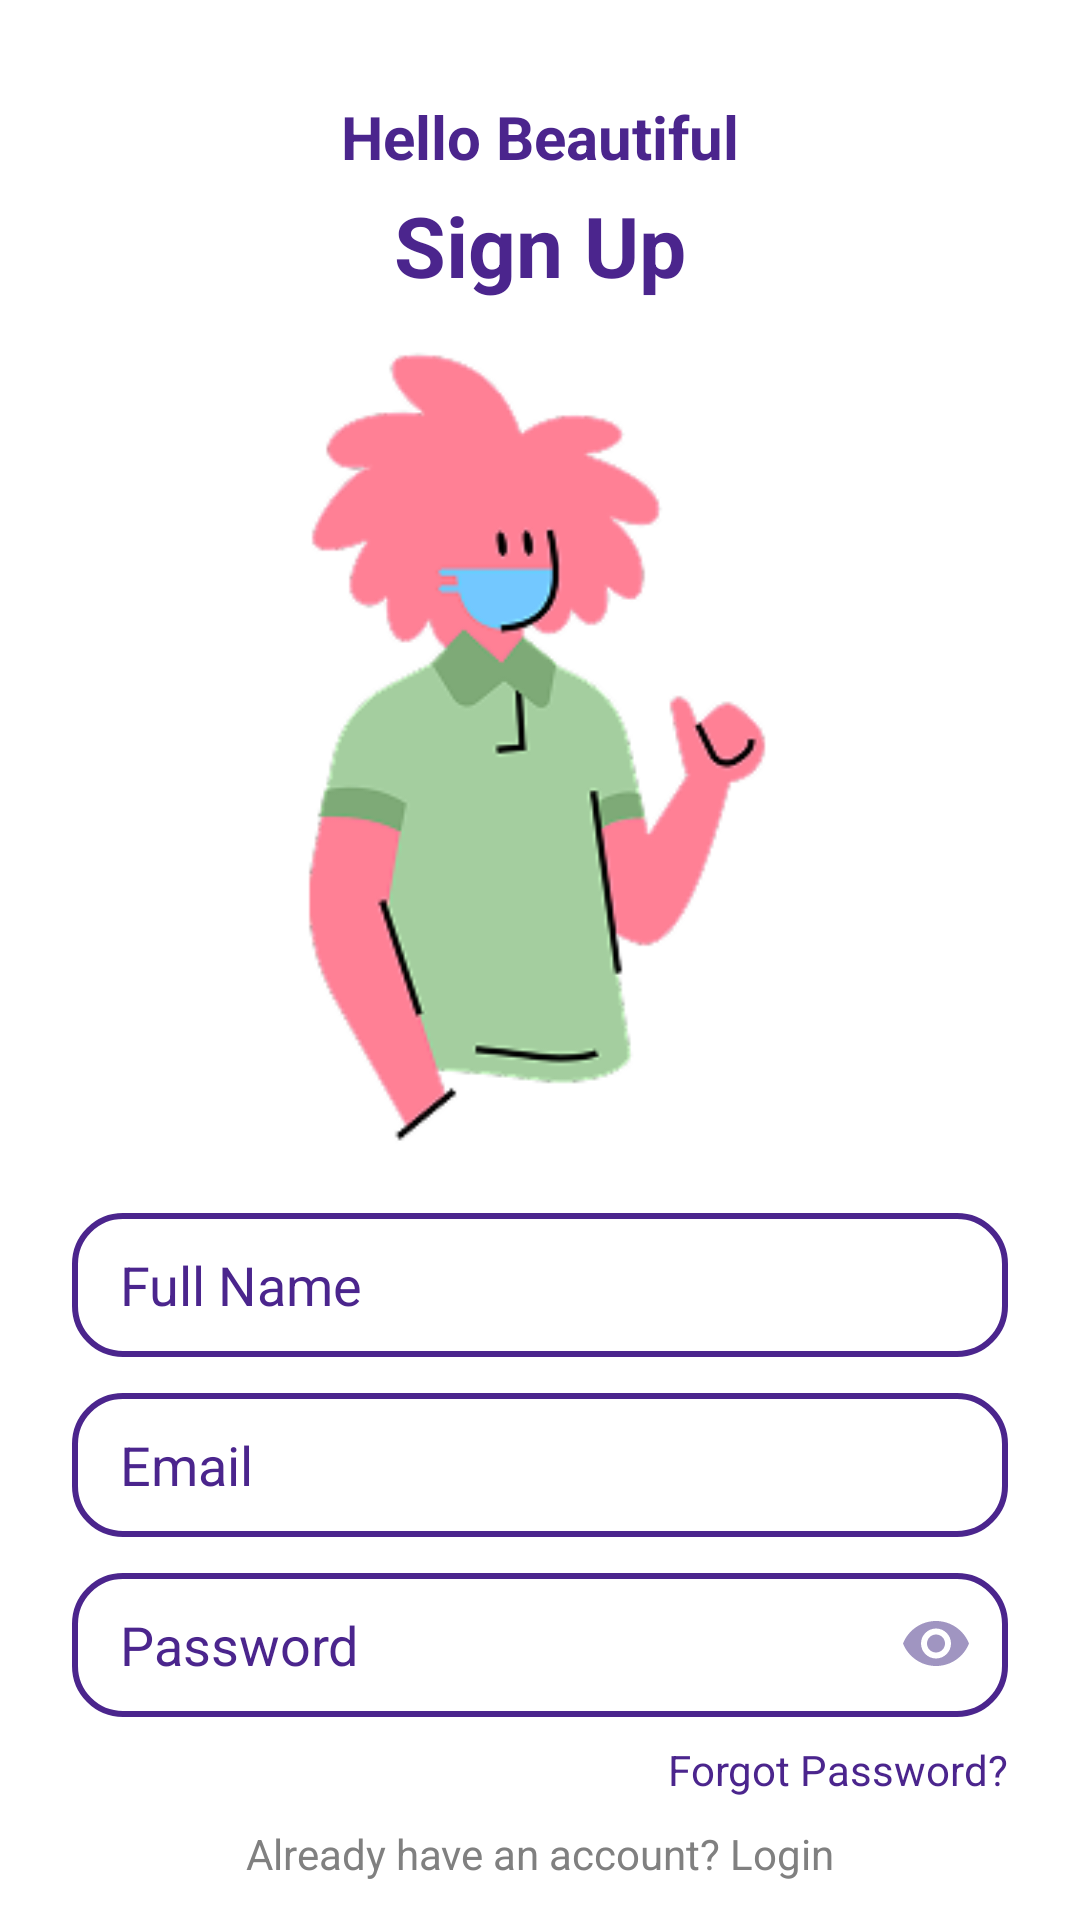

Named icons in this screenshot (1080px x 1920px) and their bounding boxes, (x1, y1, x2, y2):
eye: (903, 1621, 969, 1666)
